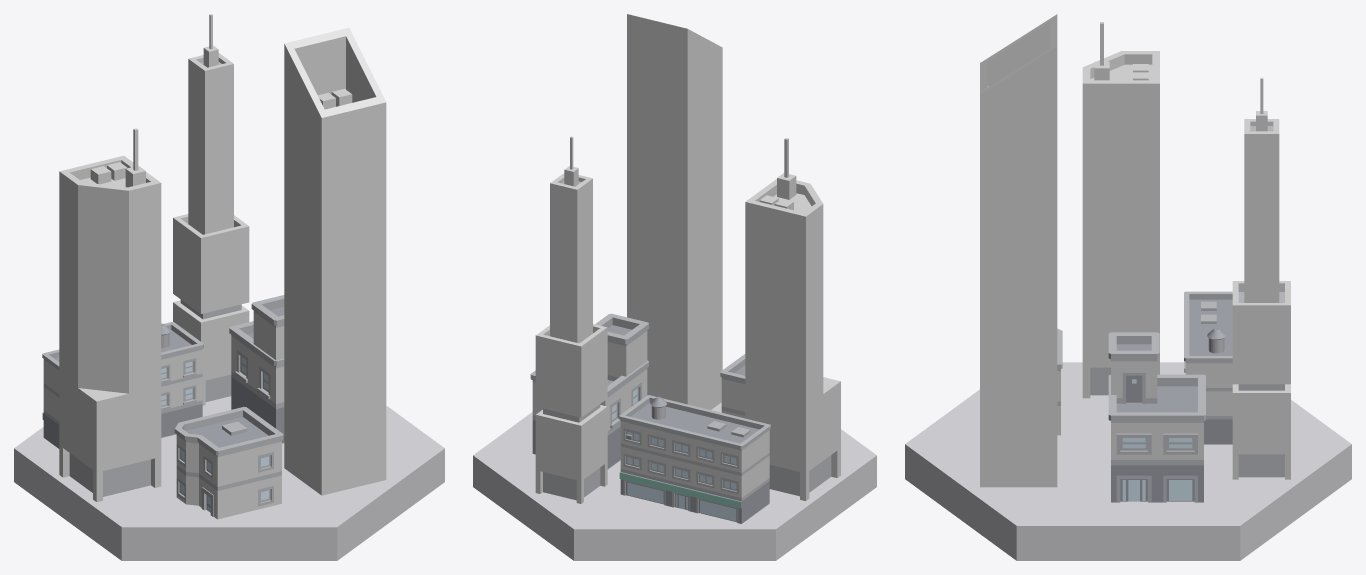
The model's file is 6_buildings_1_low.fbx.
3 views of the same model, side by side, from view 1: azimuth 30°, elevation 25°; view 2: azimuth 150°, elevation 25°; view 3: azimuth 270°, elevation 25° (orthographic). The views are drawn at different scales.
Parts seen in each view (by area): view 1: low_buildingL.001, low_buildingB.001, pavement_low.012, low_buildingC.001, small_buildingB.001, small_buildingF.001, large_buildingF.001; view 2: low_buildingL.001, low_buildingB.001, pavement_low.012, low_buildingC.001, large_buildingF.001, small_buildingF.001, small_buildingB.001; view 3: pavement_low.012, low_buildingL.001, low_buildingB.001, low_buildingC.001, small_buildingF.001, large_buildingF.001.
Part boxes in pixels (bbox=[...]): low_buildingL.001: bbox=[284, 27, 386, 495]; low_buildingB.001: bbox=[59, 128, 161, 501]; pavement_low.012: bbox=[14, 396, 444, 560]; low_buildingC.001: bbox=[173, 14, 249, 405]; small_buildingB.001: bbox=[174, 407, 283, 519]; small_buildingF.001: bbox=[229, 295, 284, 443]; large_buildingF.001: bbox=[42, 322, 203, 448]; low_buildingL.001: bbox=[627, 14, 722, 409]; low_buildingB.001: bbox=[745, 138, 840, 500]; pavement_low.012: bbox=[473, 402, 876, 560]; low_buildingC.001: bbox=[535, 136, 607, 503]; large_buildingF.001: bbox=[619, 395, 770, 523]; small_buildingF.001: bbox=[530, 313, 648, 469]; small_buildingB.001: bbox=[720, 354, 745, 418]; pavement_low.012: bbox=[905, 362, 1351, 560]; low_buildingL.001: bbox=[980, 14, 1057, 487]; low_buildingB.001: bbox=[1082, 22, 1159, 398]; low_buildingC.001: bbox=[1232, 77, 1290, 479]; small_buildingF.001: bbox=[1108, 332, 1205, 502]; large_buildingF.001: bbox=[1184, 291, 1232, 444].
Size of the model in its own units: 100 by 136 by 115.
